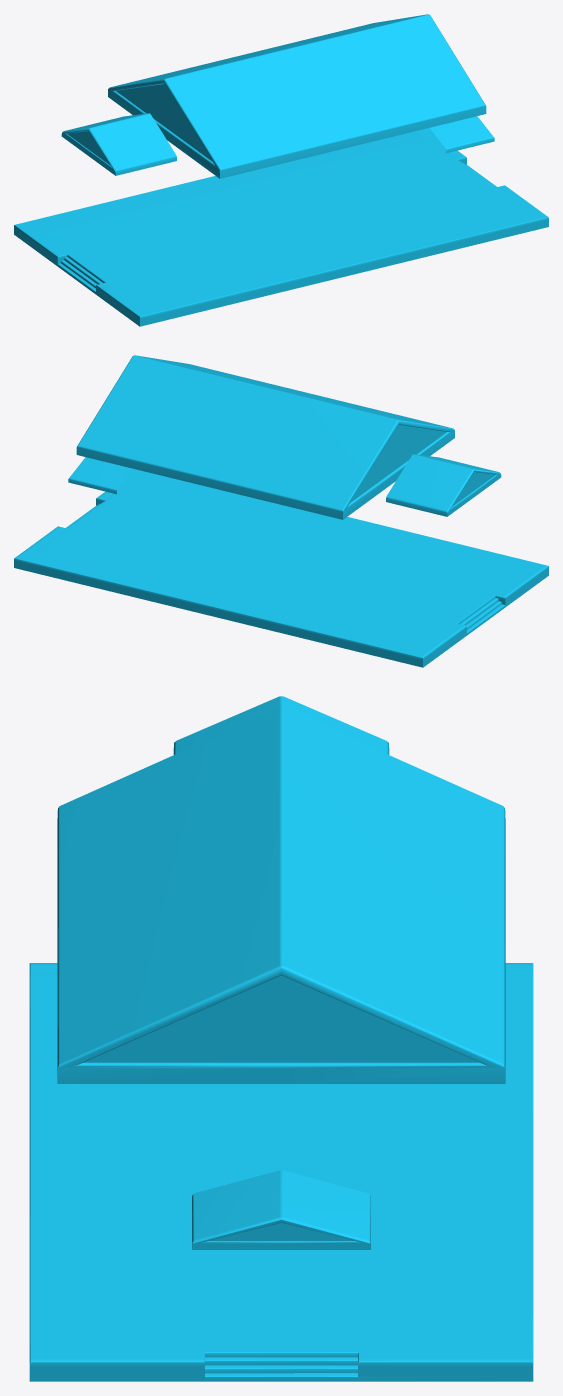
The model's file is LibraryRoofWithFloor.fbx.
3 views of the same model, one above another, from view 1: azimuth 30°, elevation 25°; view 2: azimuth 150°, elevation 25°; view 3: azimuth 270°, elevation 25° (orthographic). The views are drawn at different scales.
Parts seen in each view (by area): view 1: LibraryStand, MainRoof, RoofExtension, RoofBottomFloor; view 2: LibraryStand, MainRoof, RoofExtension, RoofBottomFloor; view 3: MainRoof, LibraryStand, RoofBottomFloor, RoofExtension.
Part boxes in pixels (box(x1,y1,x2,y2)): LibraryStand: box(14, 131, 548, 326); MainRoof: box(108, 14, 486, 178); RoofExtension: box(61, 113, 176, 175); RoofBottomFloor: box(416, 116, 494, 153); LibraryStand: box(14, 472, 548, 667); MainRoof: box(76, 355, 454, 519); RoofExtension: box(386, 454, 501, 516); RoofBottomFloor: box(68, 457, 146, 494); MainRoof: box(57, 708, 505, 1083); LibraryStand: box(29, 963, 533, 1381); RoofBottomFloor: box(192, 1170, 370, 1249); RoofExtension: box(173, 696, 389, 754).
Size of the model in its own units: 49.87 by 20.99 by 26.58.
